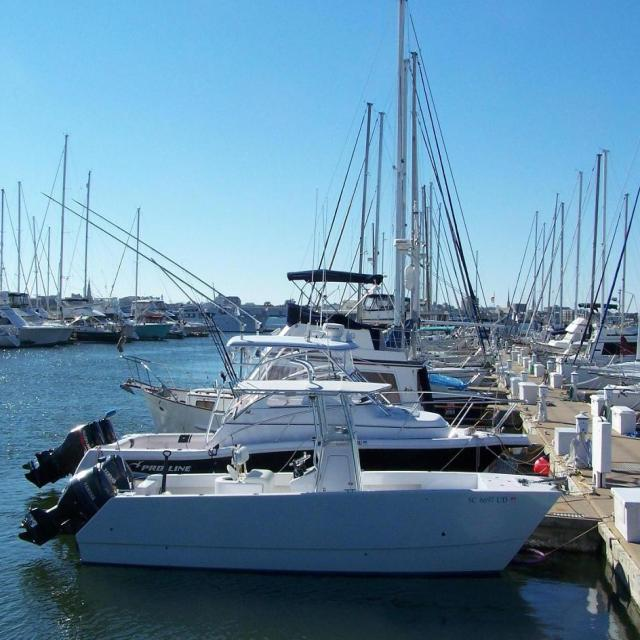houseboat: (90, 422, 551, 574), (104, 366, 551, 489)
